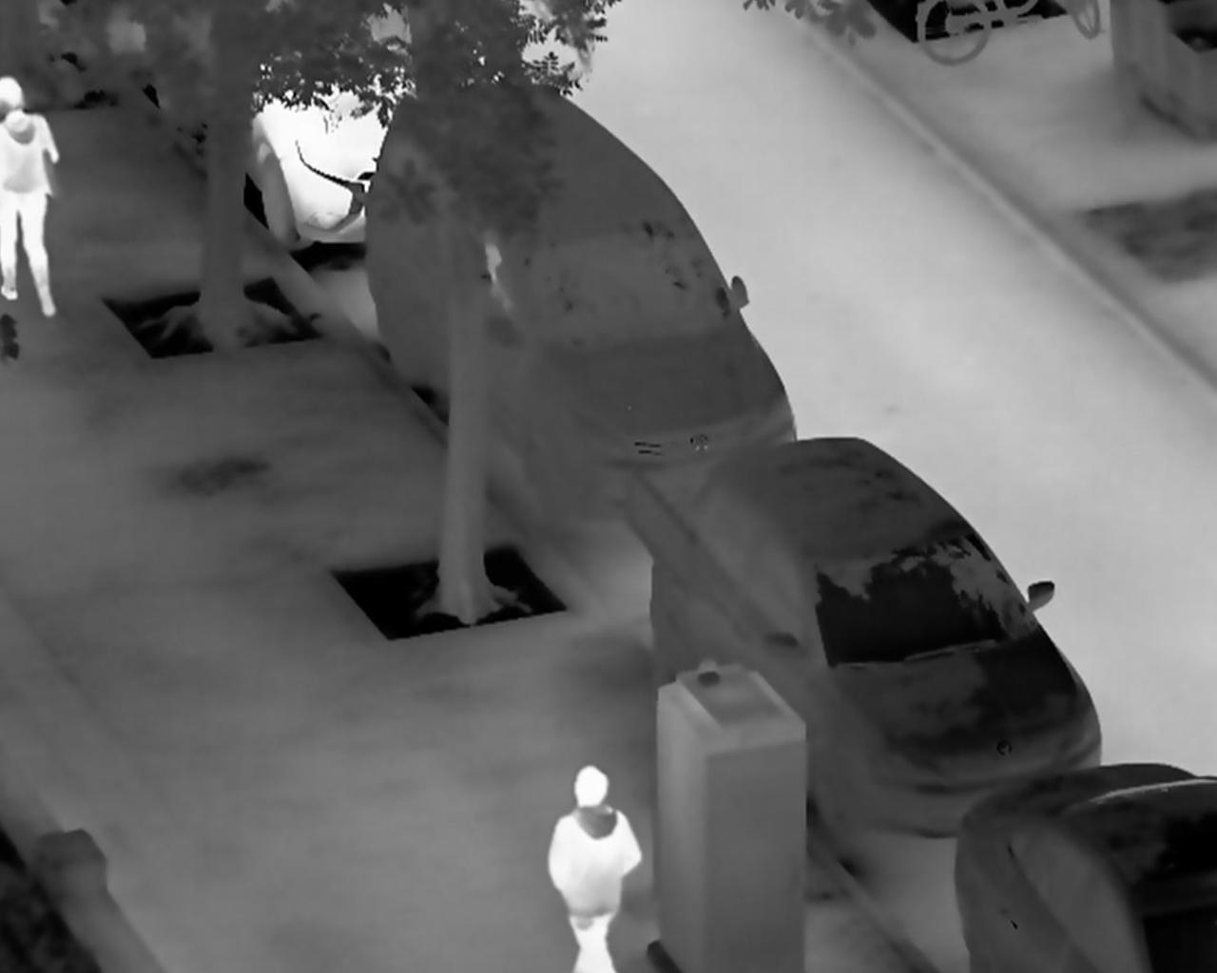person: (540, 762, 645, 973)
